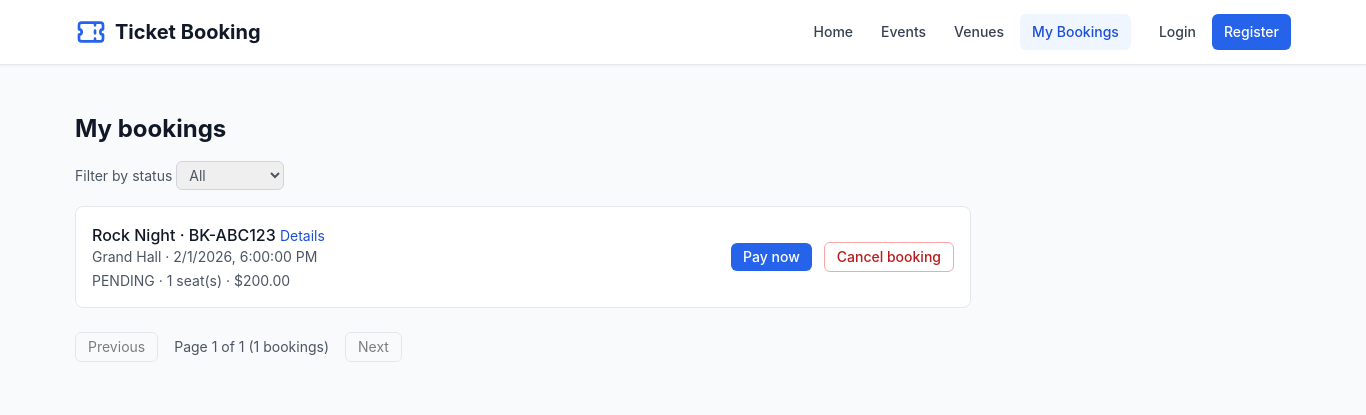
Test: booking pages › lists my bookings and cancels a pending one
Expected: the text "Rock Night · BK-ABC123 Details" is shown, top-left (92, 223), bottom-right (325, 247)
Step 1. Click the button "Cancel booking" → click(889, 257), box top-left (824, 242), bottom-right (954, 272)
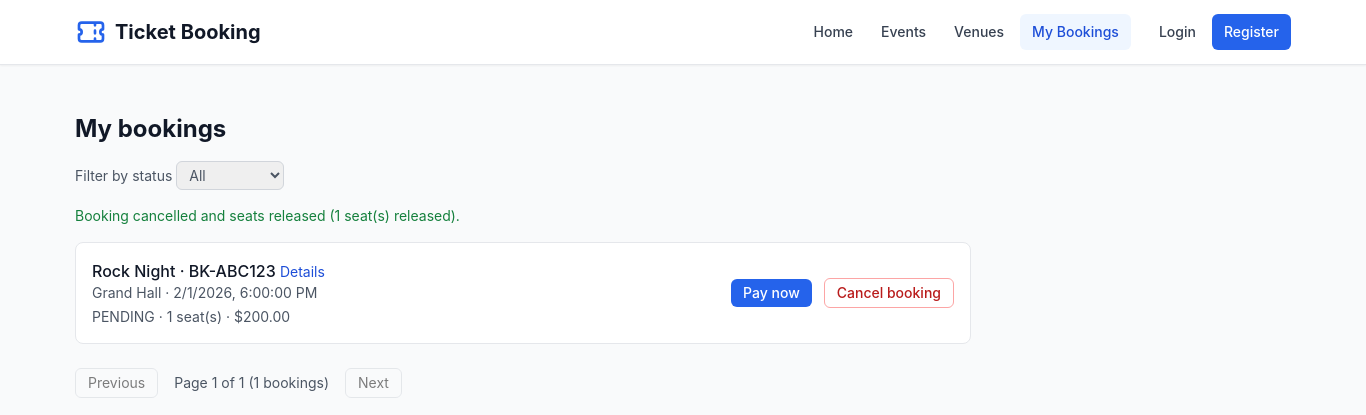
Expected: the text "Booking cancelled and seats released (1 seat(s) released)." is shown, top-left (75, 207), bottom-right (460, 224)
